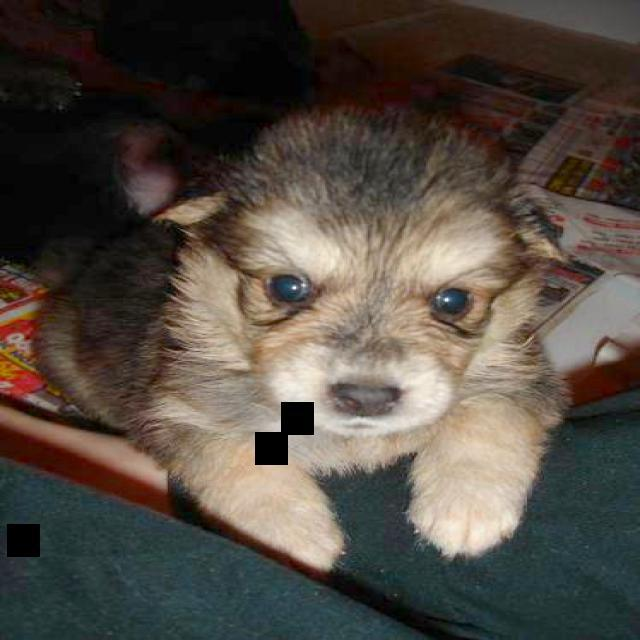puppy-dog: (32, 106, 563, 571)
